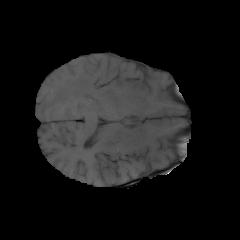glioma: (44, 71, 115, 113)
